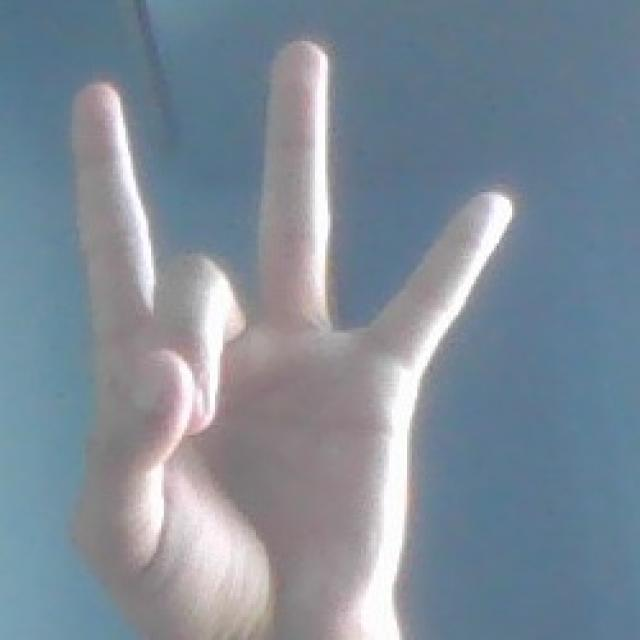Numeric-8: (70, 33, 509, 611)
